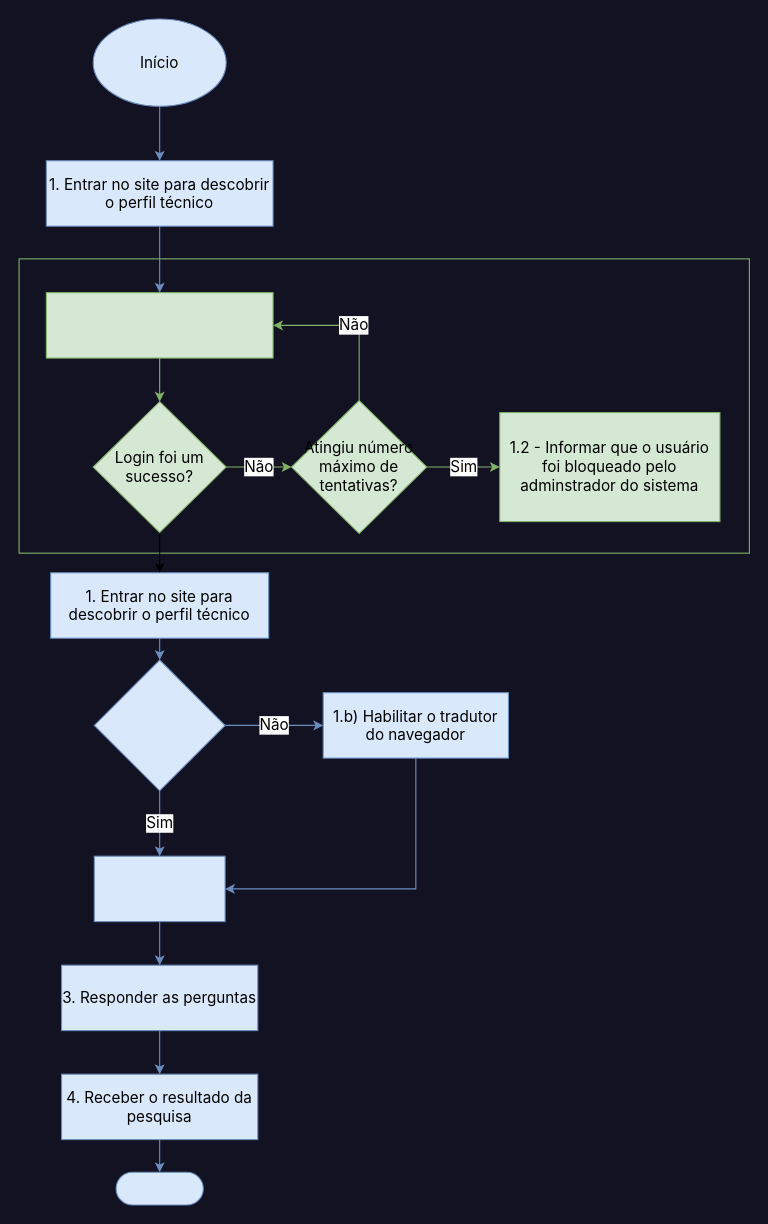
The diagram is 768 pixels wide and 1224 high, and some of its shapes have lost their labels. The shapes that lost their labels are listed below. From the top down, each one's centre as x and y in pixels, then its label:
At point 159,325: "1.1 - Fornecer usuário e senha para autenticar no site".
At point 159,725: "Idioma em português?".
At point 159,888: "2. Iniciar pesquisa do perfil".
At point 159,1188: "Fim".
